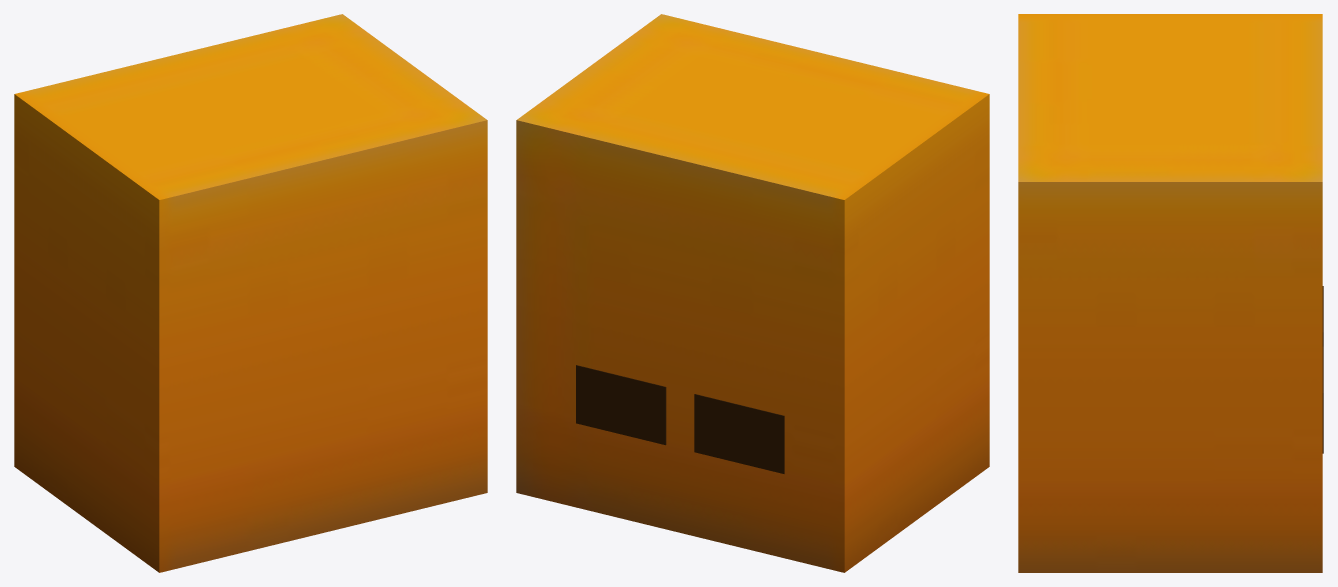
Rendered from giant.fbx.
3 renders of one model, left to right at view 1: azimuth 30°, elevation 25°; view 2: azimuth 150°, elevation 25°; view 3: azimuth 270°, elevation 25°, orthographic. The views are drawn at different scales.
Visible parts, largest first — view 1: Giant; view 2: Giant, giant_eyes; view 3: Giant.
Boxes of the visible parts, left/top/right/bottom form: Giant: left=14, top=14, right=487, bottom=572; Giant: left=516, top=14, right=989, bottom=572; giant_eyes: left=576, top=365, right=784, bottom=473; Giant: left=1018, top=14, right=1322, bottom=572.
Bounding box in the file's own units: 130 × 141 × 100.
Materials: 2 (1 with a texture image).
